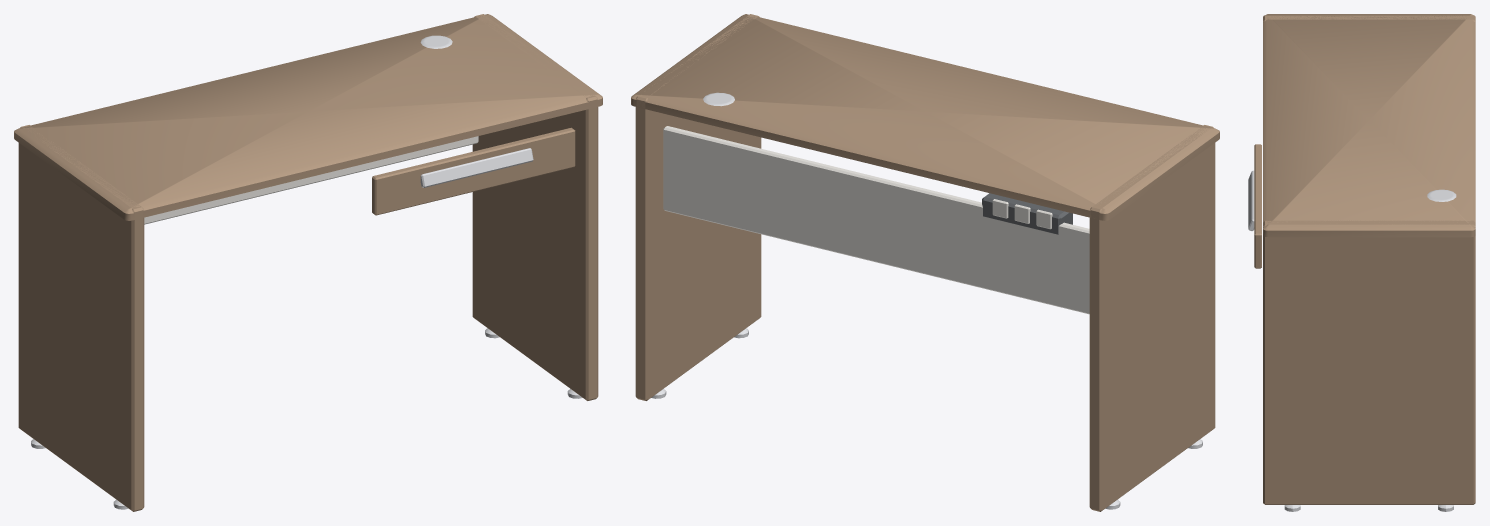
The model's file is guest-room-writing-desk.glb.
The picture shows the model from 3 angles, left to right: view 1: azimuth 30°, elevation 25°; view 2: azimuth 150°, elevation 25°; view 3: azimuth 270°, elevation 25°; orthographic projection. The views are drawn at different scales.
Visible parts, largest first — view 1: guest-room-desk, drawer/surface, drawer/metal; view 2: guest-room-desk; view 3: guest-room-desk, drawer/surface, drawer/metal.
Part boxes in pixels (x1,y1,x2,y2): guest-room-desk: [14, 14, 602, 511]; drawer/surface: [372, 127, 575, 215]; drawer/metal: [420, 148, 533, 187]; guest-room-desk: [631, 14, 1219, 511]; guest-room-desk: [1263, 14, 1475, 511]; drawer/surface: [1254, 144, 1261, 268]; drawer/metal: [1248, 170, 1254, 230].
Bounding box in the file's own units: 1.2 × 0.7421 × 0.5346.
